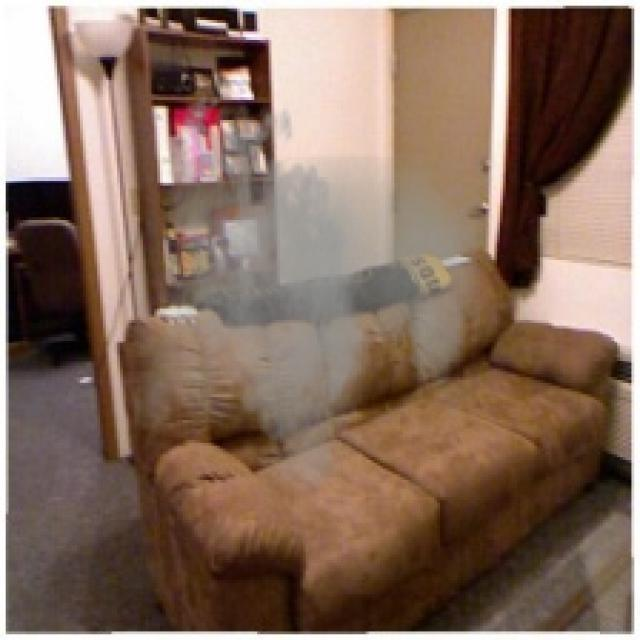Smoke: (134, 80, 486, 506)
